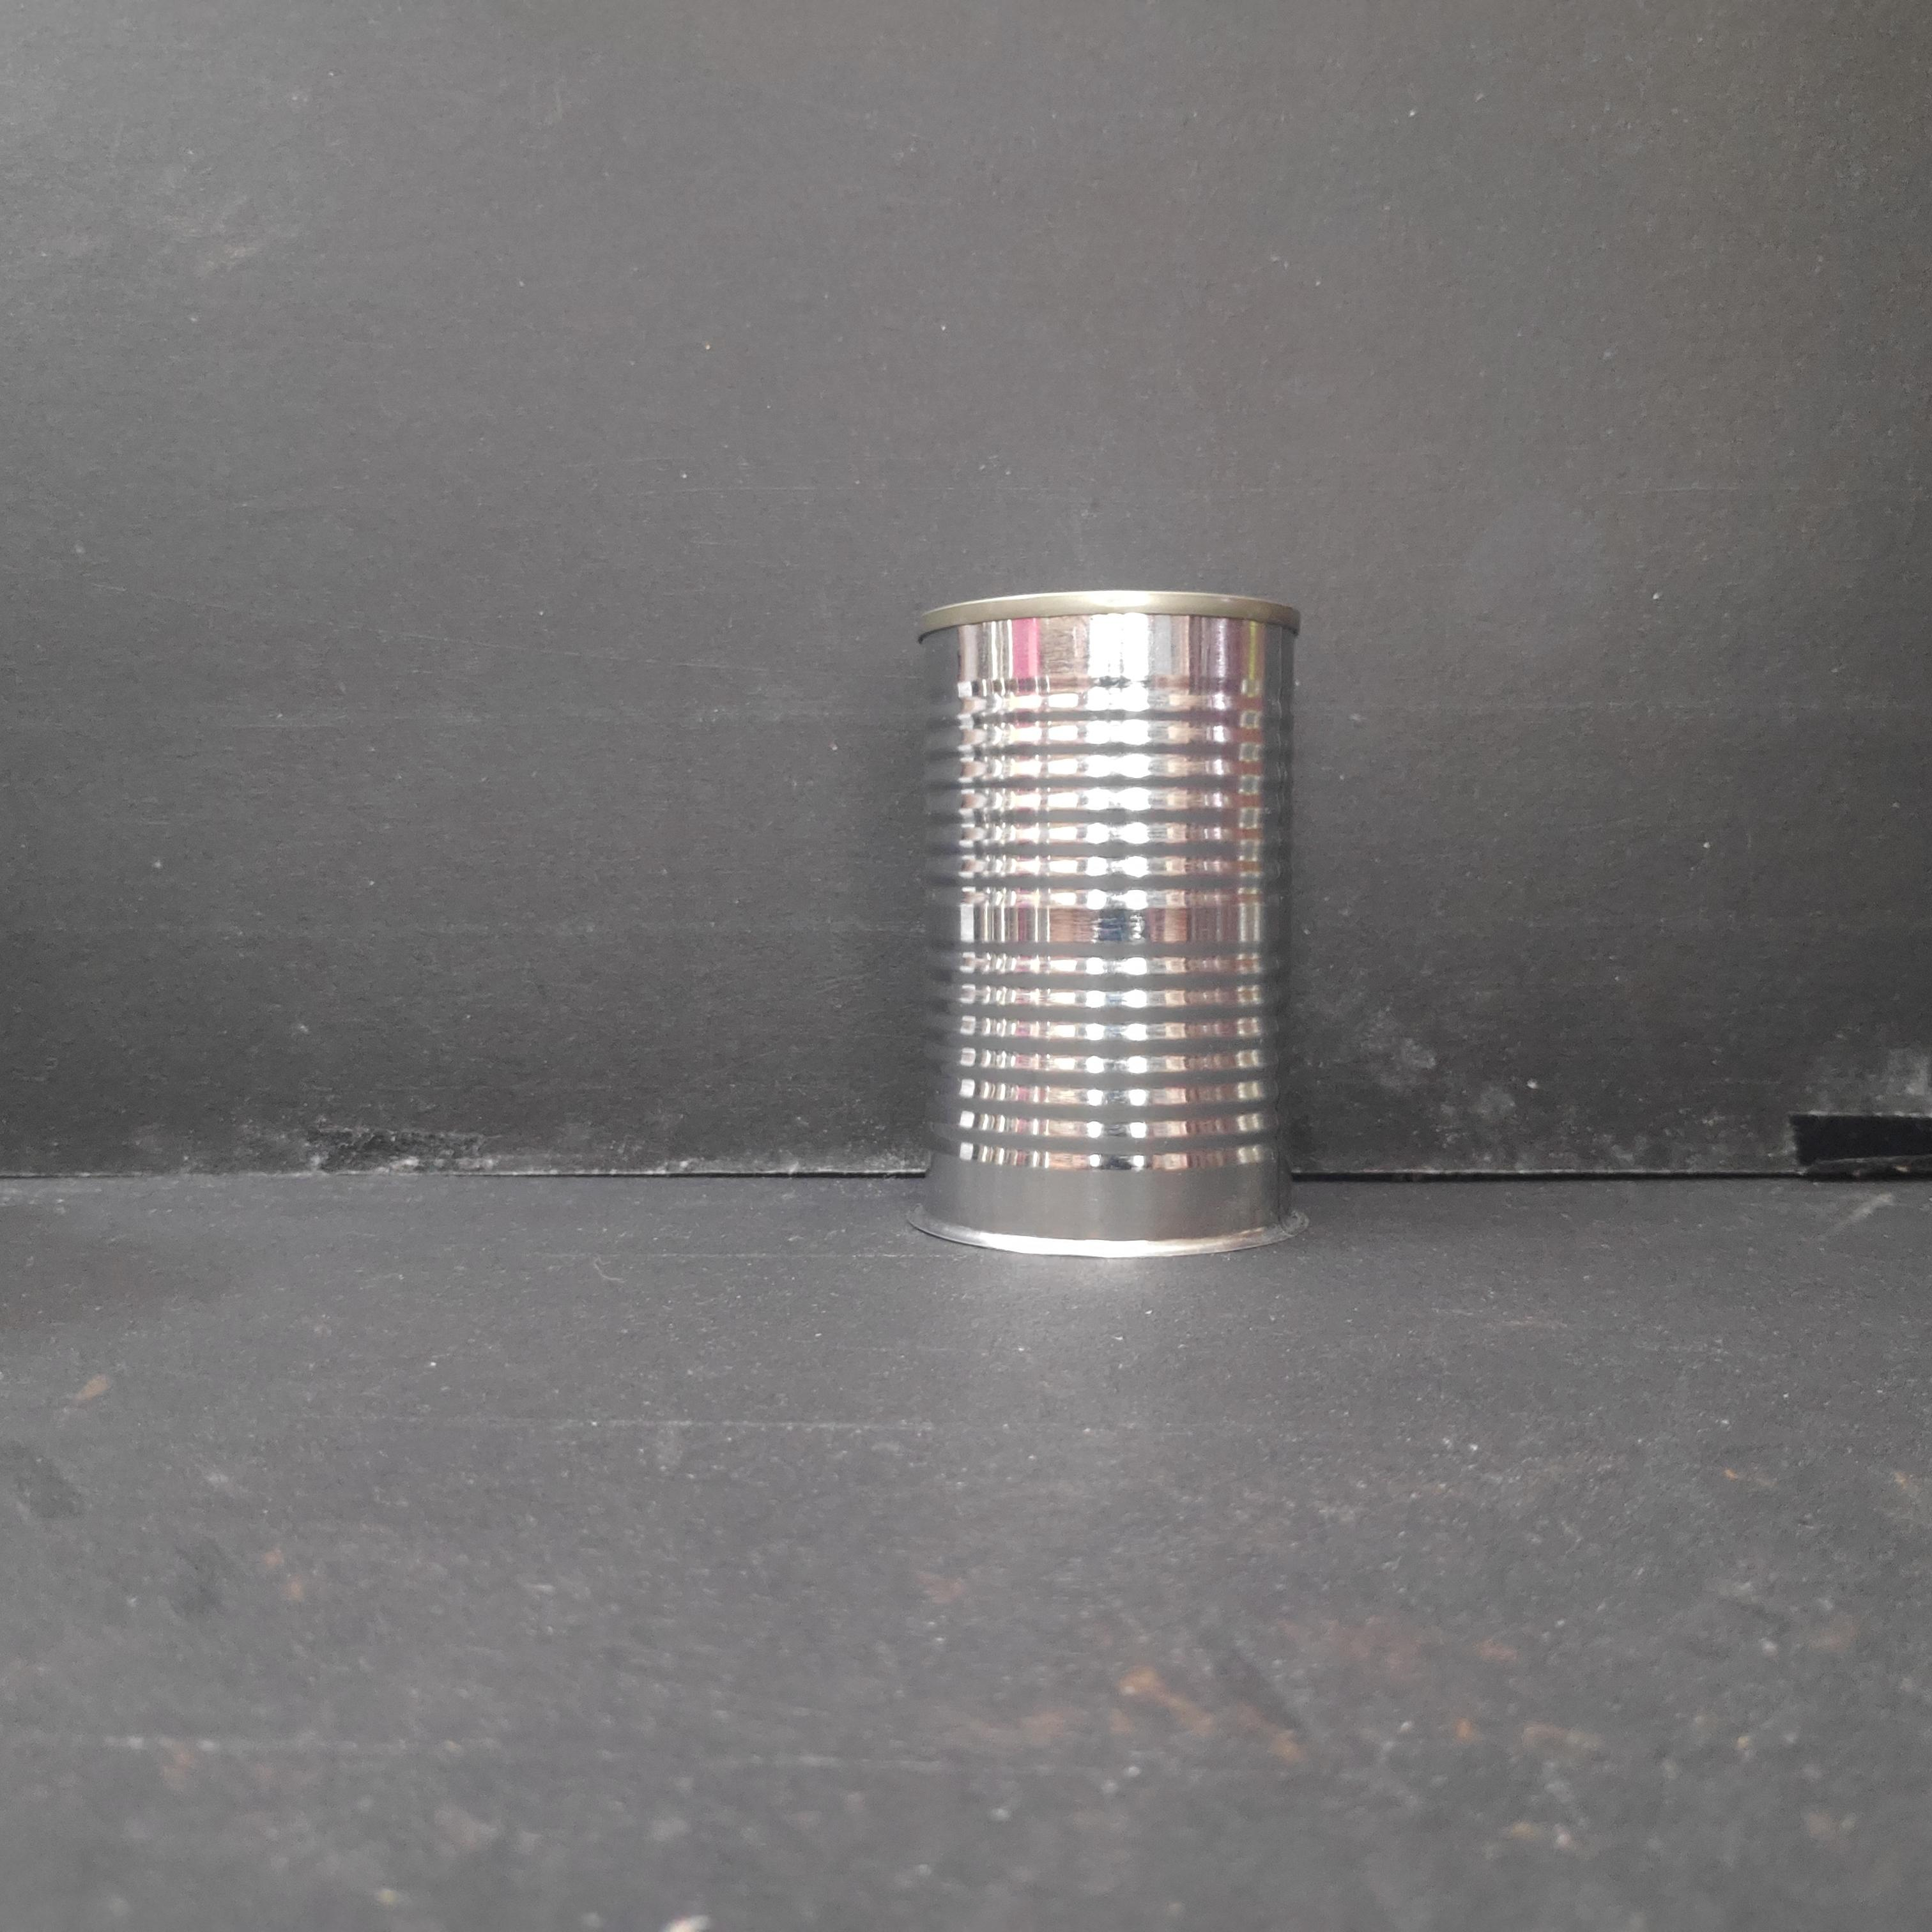No defect: (899, 582, 1321, 1266)
